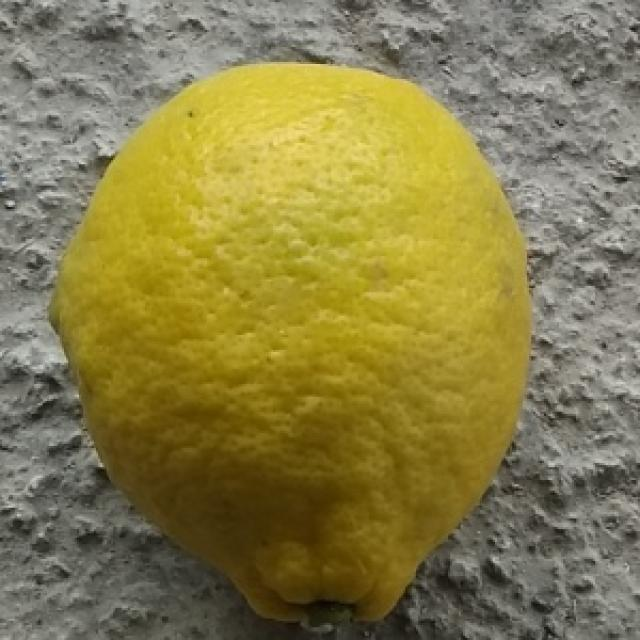Ripe: (42, 55, 540, 628)
